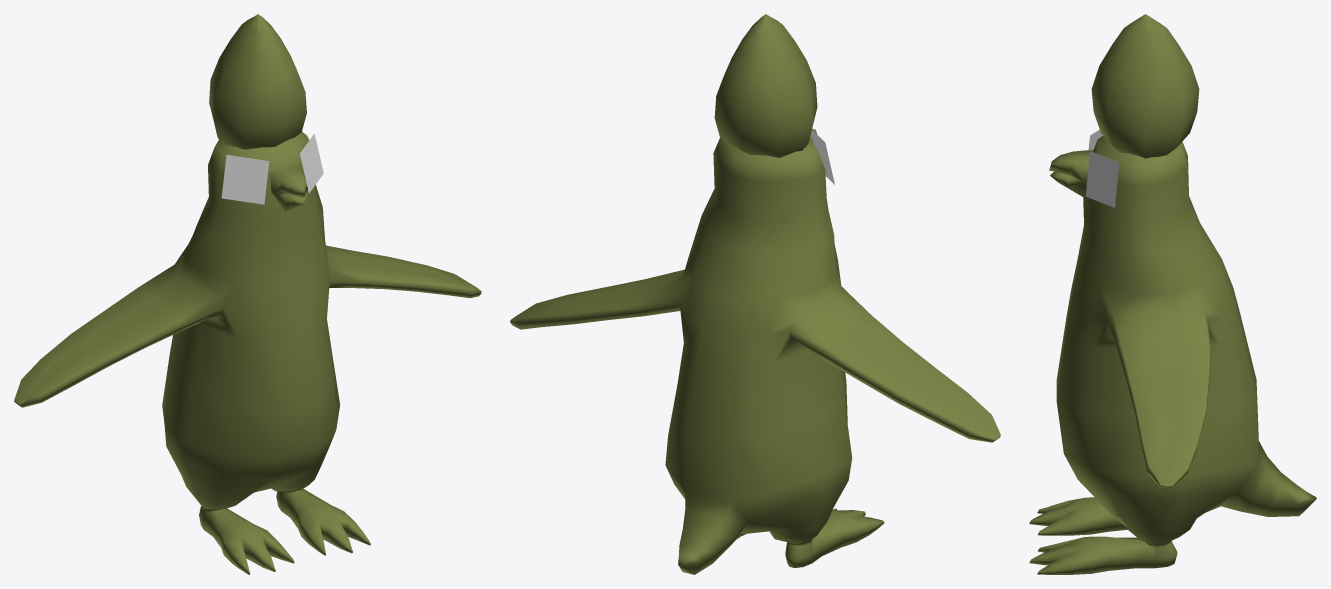
Rendered from MESH_FigPenguin03.fbx.
The picture shows the model from 3 angles, left to right: view 1: azimuth 30°, elevation 25°; view 2: azimuth 150°, elevation 25°; view 3: azimuth 270°, elevation 25°; orthographic projection. The views are drawn at different scales.
Parts seen in each view (by area): view 1: MESH_FIGPENGUIN3; view 2: MESH_FIGPENGUIN3; view 3: MESH_FIGPENGUIN3.
Boxes of the visible parts, x1=… form: MESH_FIGPENGUIN3: x1=14, y1=14, x2=481, y2=574; MESH_FIGPENGUIN3: x1=510, y1=14, x2=1000, y2=574; MESH_FIGPENGUIN3: x1=1029, y1=14, x2=1316, y2=574.
Bounding box in the file's own units: 142 × 149 × 73.5.
